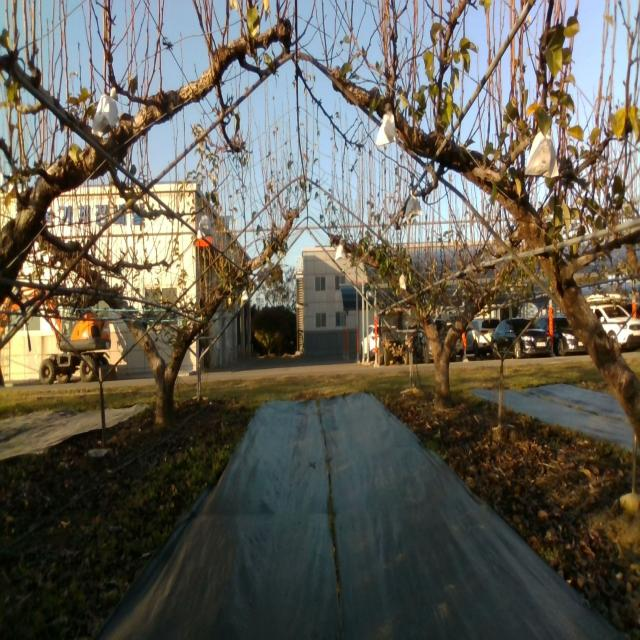pearbags: (523, 130, 560, 180), (91, 87, 118, 138), (376, 110, 397, 147), (404, 189, 422, 222), (197, 214, 214, 239)
